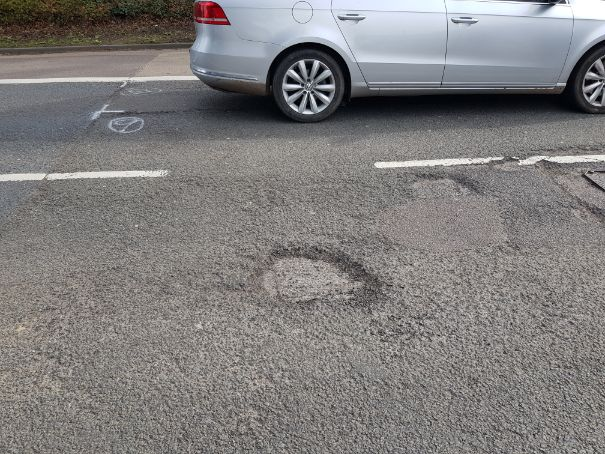pothole: (236, 239, 386, 314), (488, 145, 605, 168), (399, 168, 478, 198)
